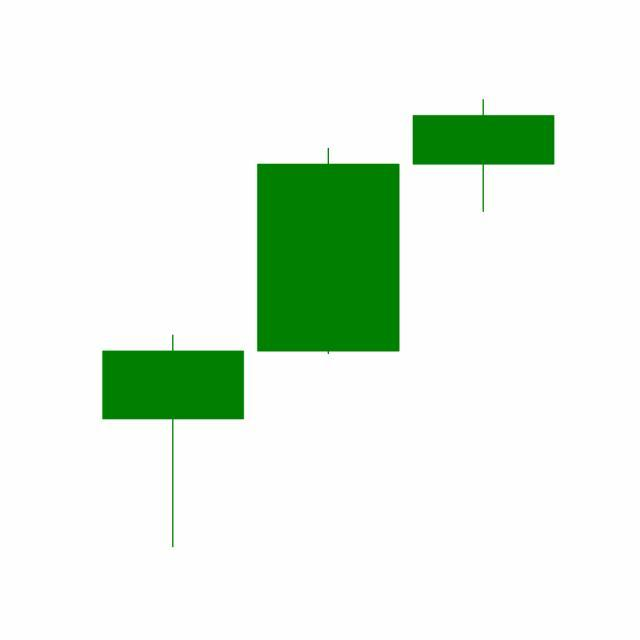Marubozu: (250, 145, 407, 357)
